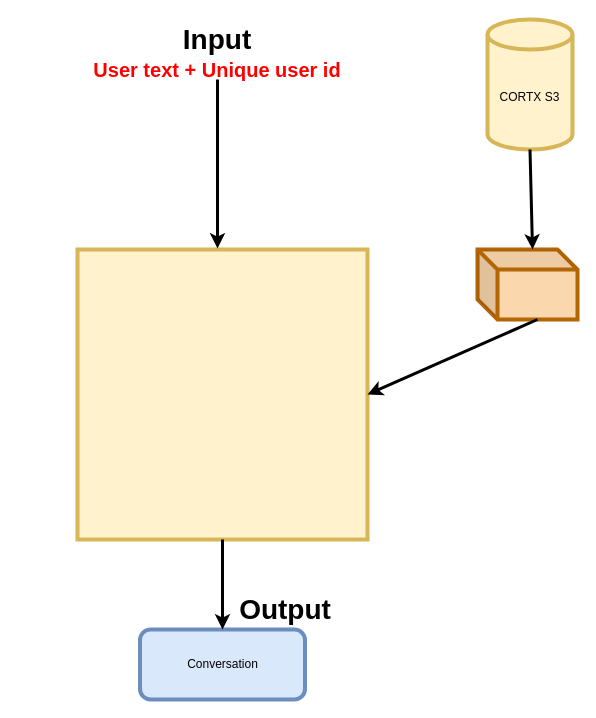
The diagram is 596 pixels wide and 718 high, and some of its shapes have lost their labels. Each missing label, with the centre of its shape:
"Flask App" goes at (x=222, y=394).
"ML model" goes at (x=527, y=284).
